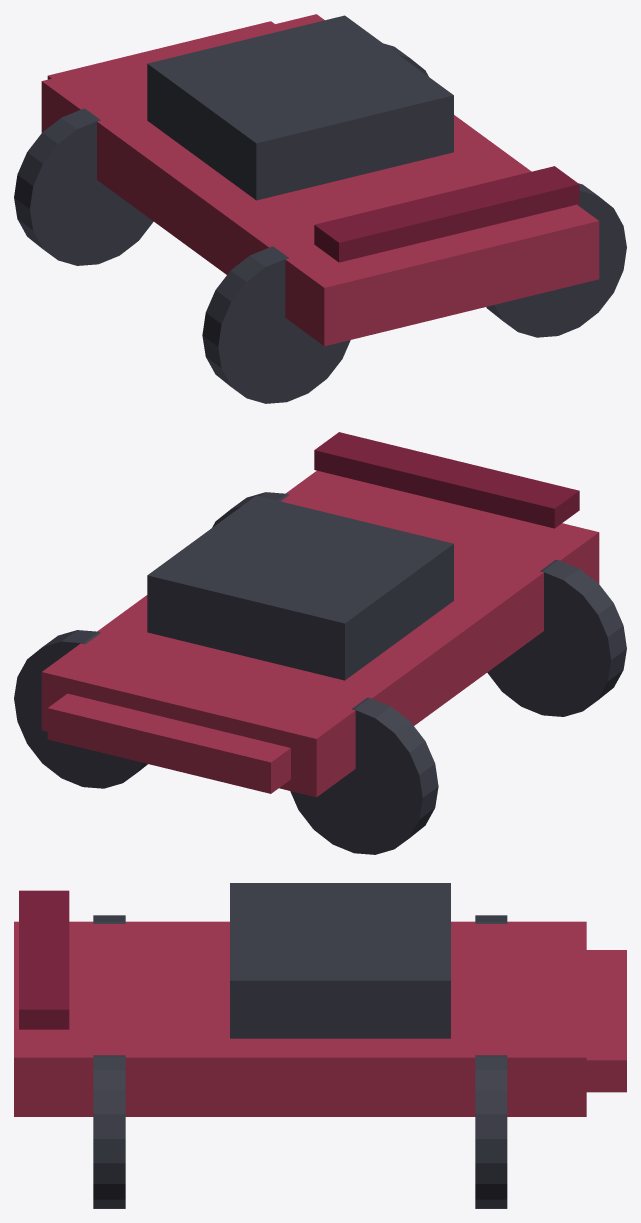
The model's file is interceptor_battle.glb.
3 views of the same model, one above another, from view 1: azimuth 30°, elevation 25°; view 2: azimuth 150°, elevation 25°; view 3: azimuth 270°, elevation 25° (orthographic).
Visible parts, largest first — view 1: hull, cockpit, wheel_-1.58_1.9, wheel_-1.58_-1.9, rear_fin, wheel_1.58_1.9, nose; view 2: hull, cockpit, wheel_-1.58_-1.9, wheel_-1.58_1.9, nose, rear_fin, wheel_1.58_-1.9; view 3: hull, cockpit, rear_fin, nose, wheel_1.58_-1.9, wheel_1.58_1.9.
Boxes of the visible parts, bbox=[...] form: hull: bbox=[41, 14, 599, 346]; cockpit: bbox=[147, 15, 453, 200]; wheel_-1.58_1.9: bbox=[202, 246, 350, 403]; wheel_-1.58_-1.9: bbox=[14, 108, 153, 265]; rear_fin: bbox=[314, 166, 579, 262]; wheel_1.58_1.9: bbox=[486, 183, 626, 337]; nose: bbox=[47, 21, 274, 79]; hull: bbox=[41, 470, 599, 797]; cockpit: bbox=[147, 495, 453, 680]; wheel_-1.58_-1.9: bbox=[290, 697, 438, 854]; wheel_-1.58_1.9: bbox=[487, 560, 626, 716]; nose: bbox=[47, 693, 290, 793]; rear_fin: bbox=[314, 432, 579, 528]; wheel_1.58_-1.9: bbox=[14, 630, 147, 788]; hull: bbox=[14, 921, 586, 1116]; cockpit: bbox=[230, 883, 450, 1038]; rear_fin: bbox=[19, 890, 69, 1029]; nose: bbox=[586, 950, 626, 1092]; wheel_1.58_-1.9: bbox=[475, 1055, 507, 1208]; wheel_1.58_1.9: bbox=[93, 1055, 125, 1208].
Bounding box in the file's own units: 4.76 × 2.23 × 6.1.
